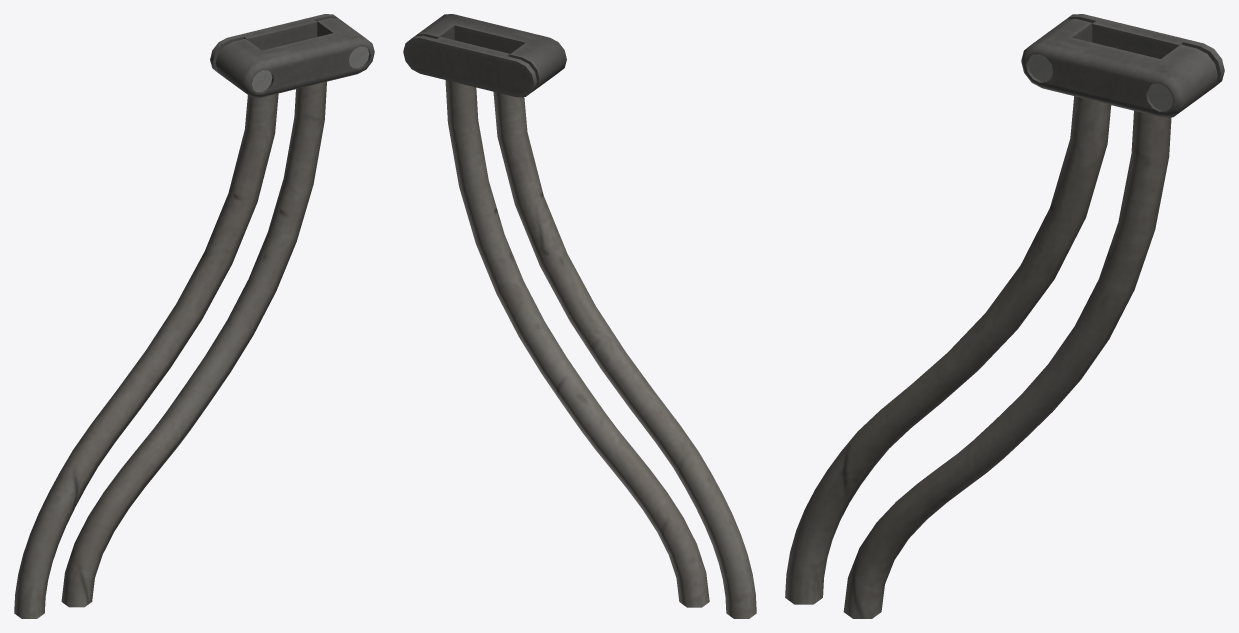
File: cable_cable_double_scurve.fbx
The picture shows the model from 3 angles, left to right: view 1: azimuth 30°, elevation 25°; view 2: azimuth 150°, elevation 25°; view 3: azimuth 330°, elevation 25°; orthographic projection. The views are drawn at different scales.
Visible parts, largest first — view 1: modular_electric_cables__cable_double_scurve; view 2: modular_electric_cables__cable_double_scurve; view 3: modular_electric_cables__cable_double_scurve.
Part boxes in pixels (box(x1,y1,x2,y2)): modular_electric_cables__cable_double_scurve: box(14, 14, 374, 618); modular_electric_cables__cable_double_scurve: box(403, 14, 756, 618); modular_electric_cables__cable_double_scurve: box(785, 14, 1224, 618).
Size of the model in its own units: 0.1427 by 0.2073 by 0.0259.
